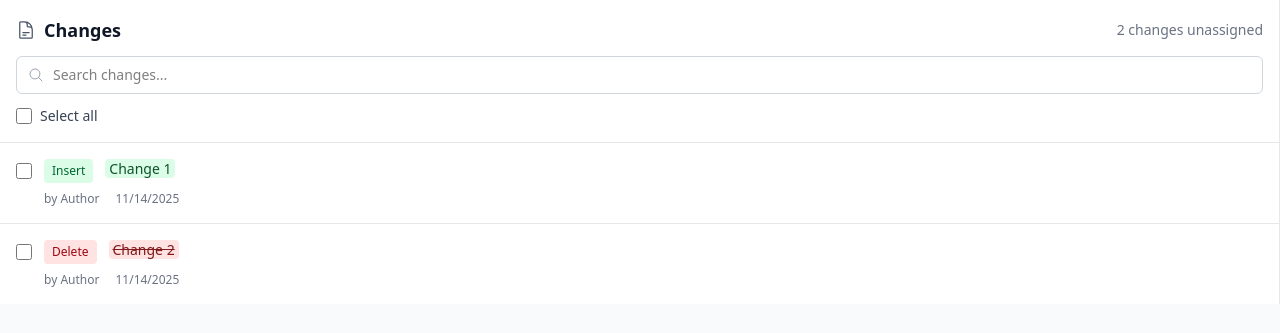
Test: ChangeListPanel › Checkbox Selection › allows bulk deselect all
The width and height of the screenshot is (1280, 333).
# Select all first
Step 1. Click the checkbox labelled "Select all" → click(24, 116), box [16,108,32,124]
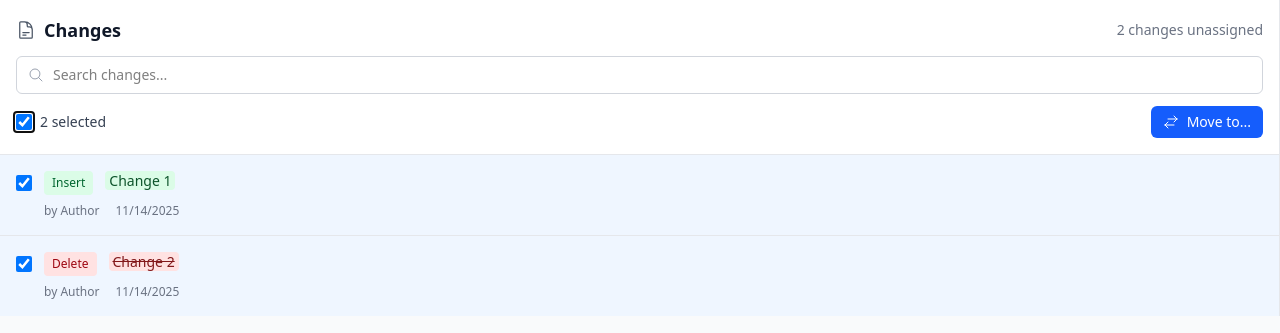
Expected: the text "2 selected" is shown, [40,112,106,132]
# Deselect all
Step 2. Click the checkbox named "Select all" → click(24, 122), box [16,114,32,130]
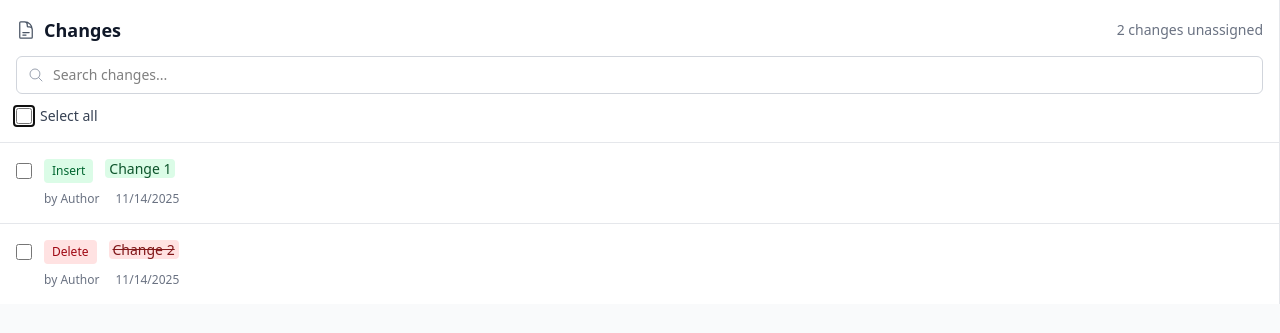
Expected: the text "Select all" is shown, [40,106,98,126]
Expected: the text "2 selected" is gone
